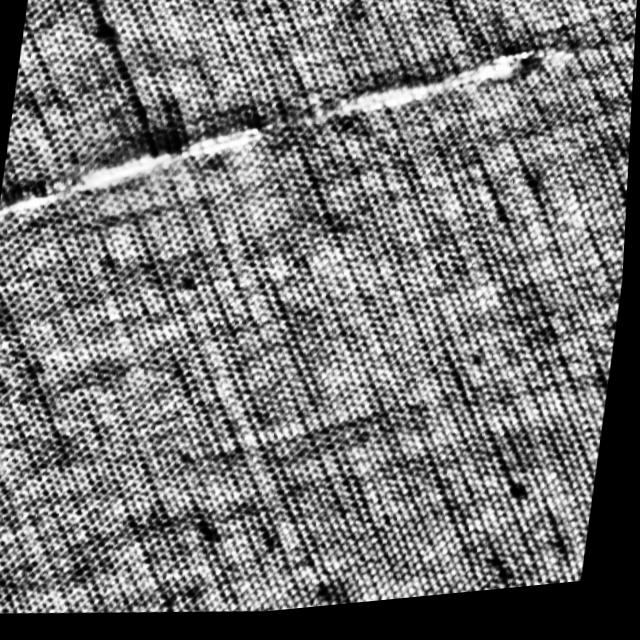Stitch: (0, 11, 561, 274)
